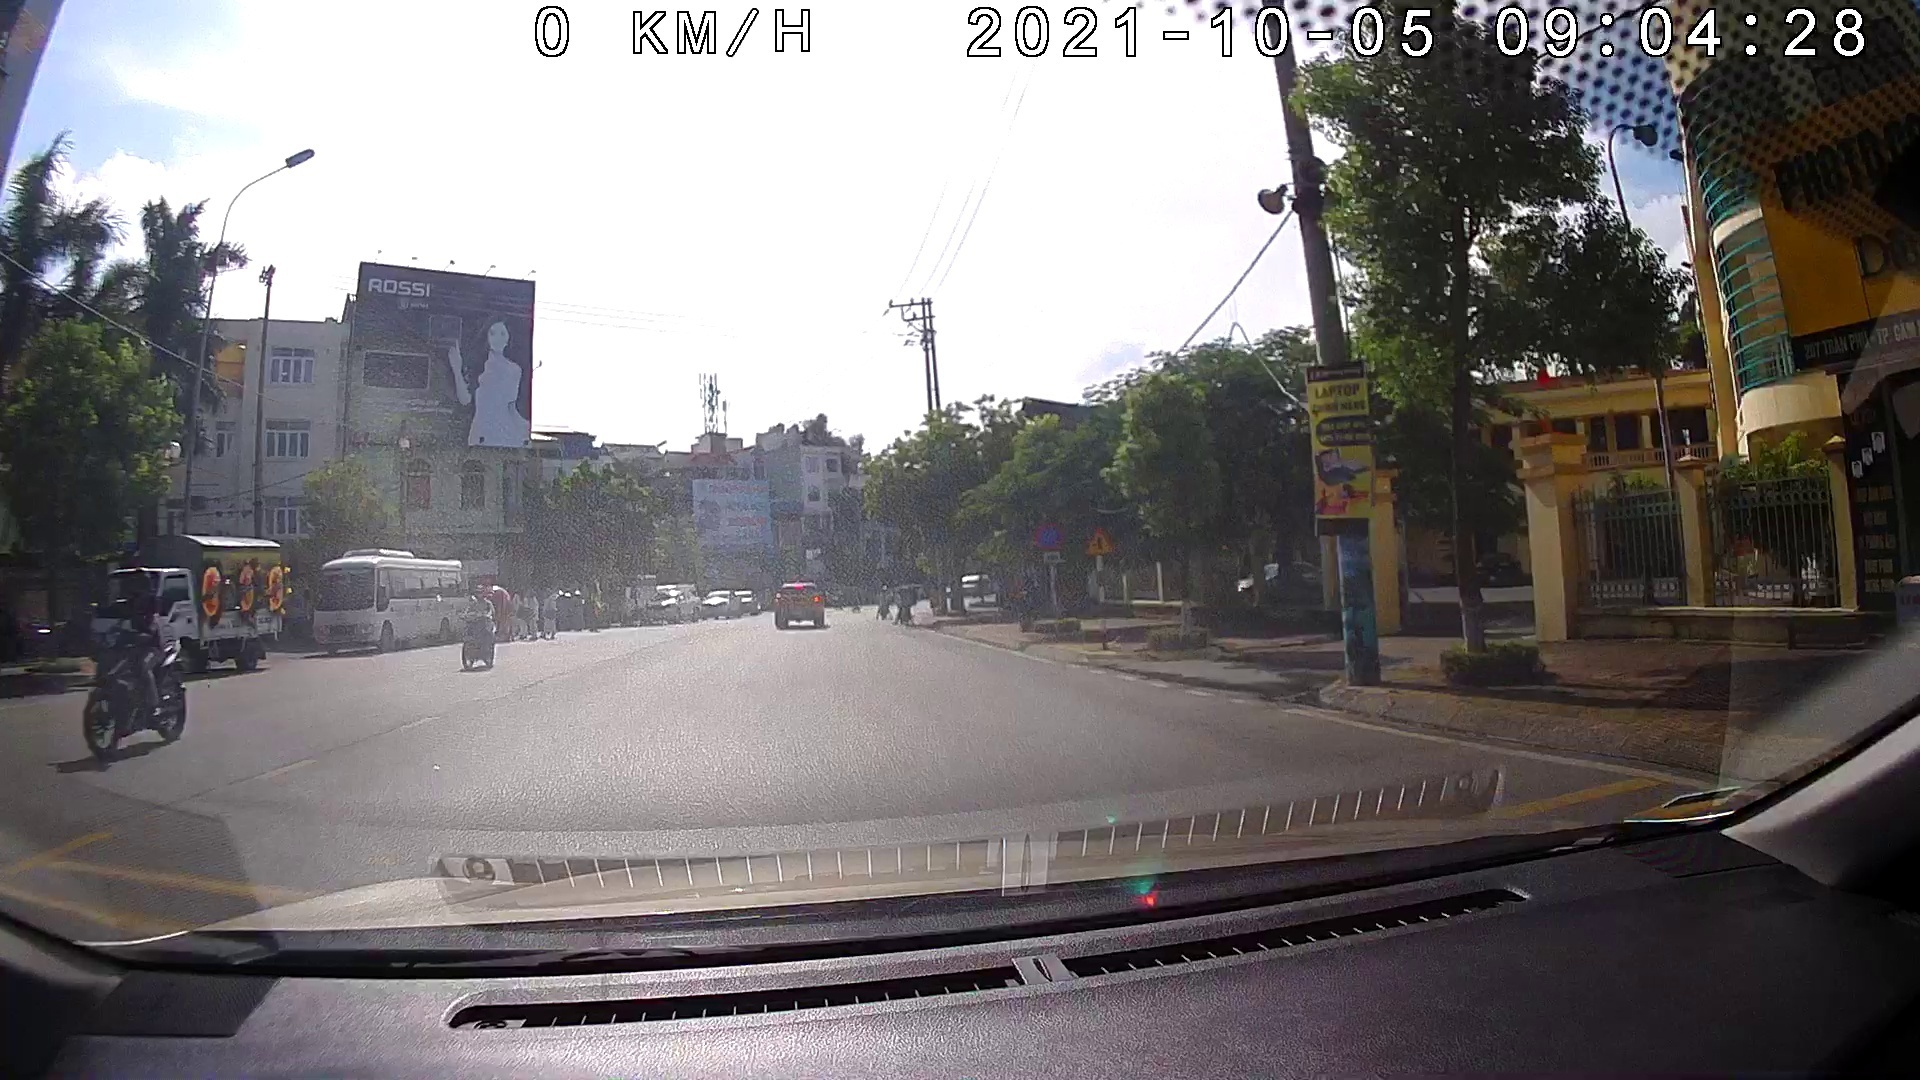Cam do xe: (1036, 518, 1063, 550)
Giao nhau voi duong khong uu tien: (1084, 524, 1114, 556)
